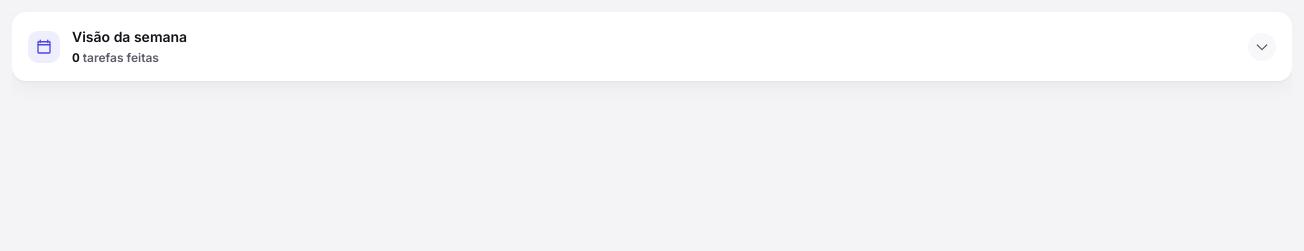
it: controles de expansão consistentes › abre a semana em uma única ação e preserva a preferência
Later steps or results of the test are not shown.
What coordinates should you click on to do the following:
click the button with class "week-head"
I would click on:
 (44, 46)
Its box is [12,12,1292,81].
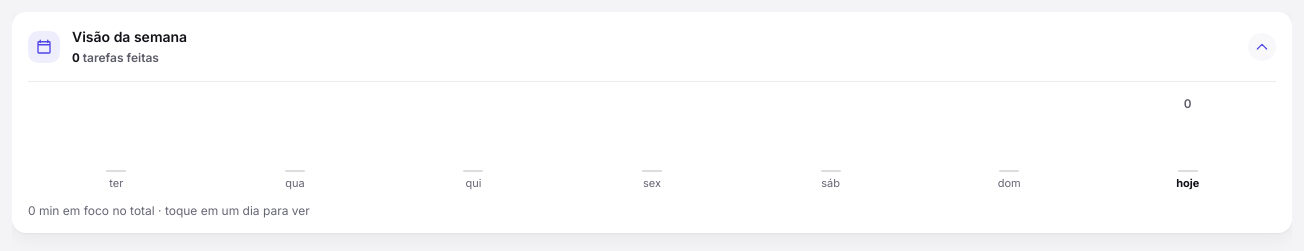
Expected: the button with class "week-head" is expanded, [12,12,1292,81]
Expected: the number of buttons with class "rhythm-col" is 7
